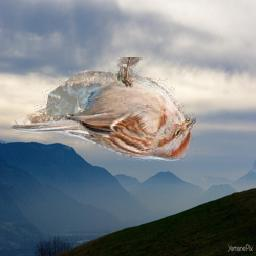Sparrow: (12, 57, 197, 161)
